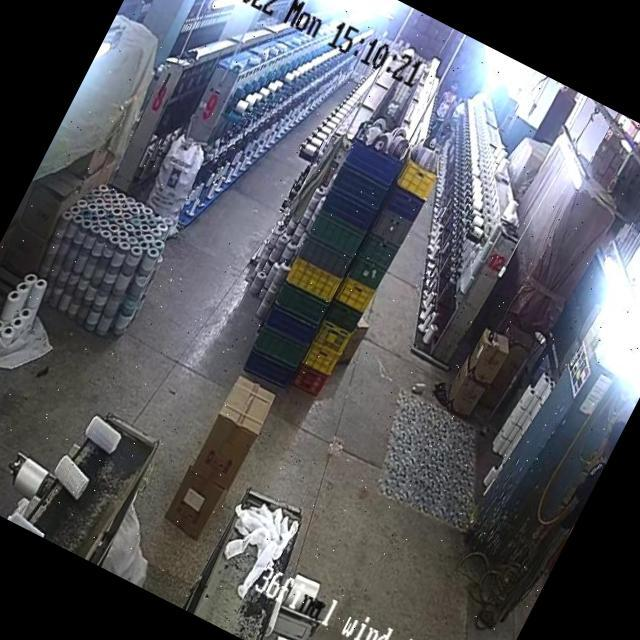person: (426, 78, 462, 133), (434, 122, 462, 160), (432, 117, 456, 149)
